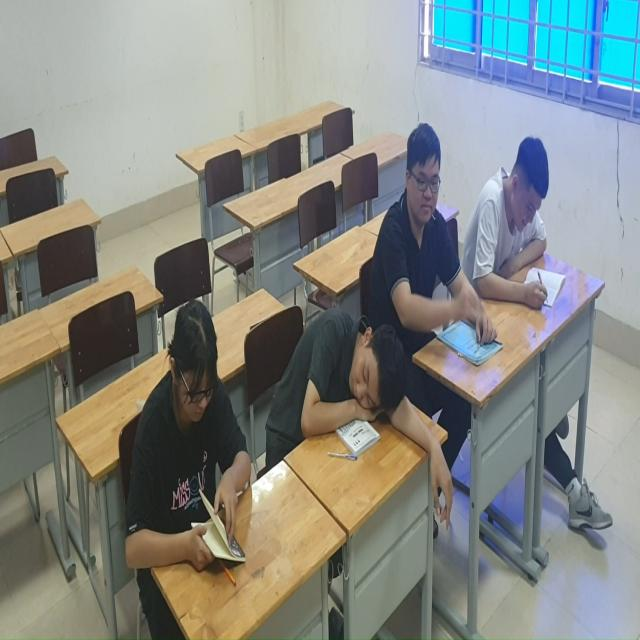read: (126, 284, 263, 613), (475, 132, 571, 331)
sleep: (298, 286, 458, 538)
